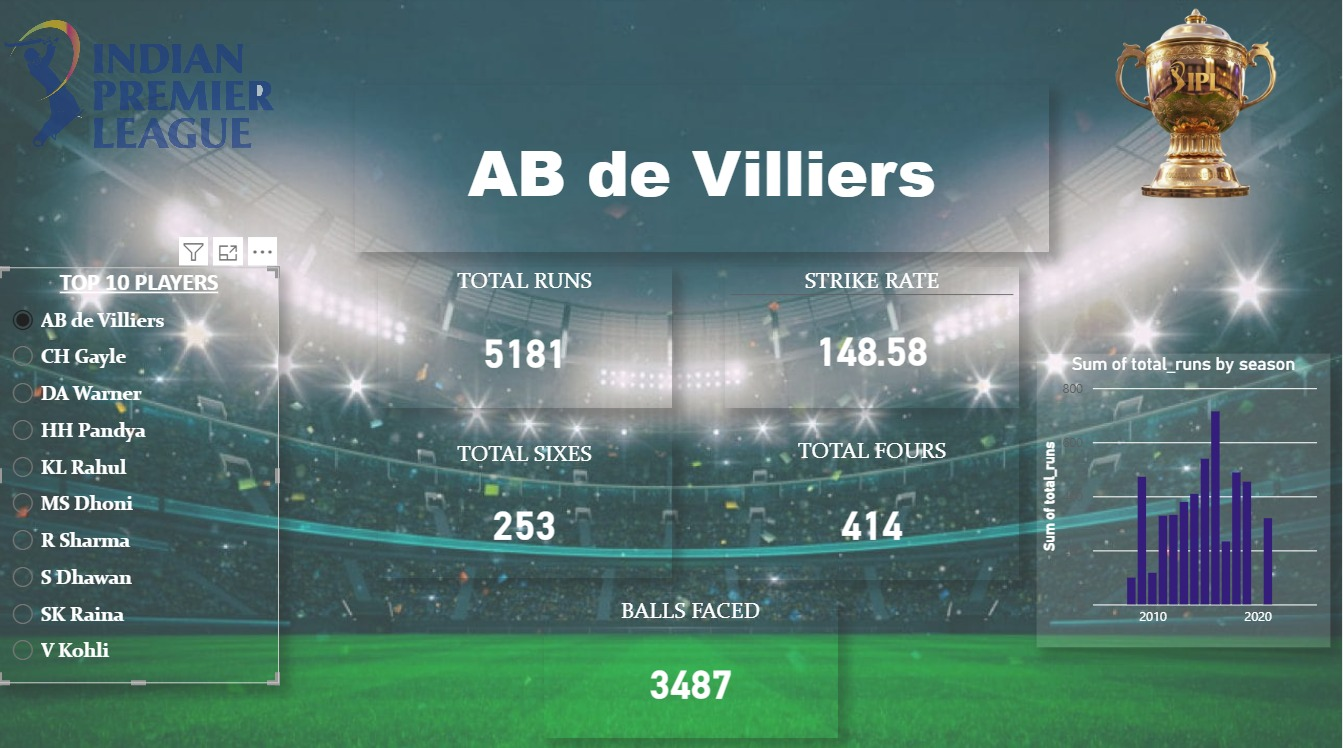

Layout of this report page (visuals, bound fields, positions):
{"tool":"powerbi","page":{"name":"Page 1","canvas":[1280,720],"ordinal":0},"visuals":[{"type":"slicer","title":"TOP 10 PLAYERS","fields":{"Values":["ball_by_ball_data.batter"]},"box":[0,258.3,266.7,396.4],"z":0},{"type":"card","title":"TOTAL RUNS","fields":{"Values":["Sum(ball_by_ball_data.batter_runs)"]},"box":[360.7,258.3,279.8,133.3],"z":1000},{"type":"card","title":"STRIKE RATE","fields":{"Values":["ball_by_ball_data.Strike_Rate"]},"box":[691.7,258.3,279.8,133.3],"z":2000},{"type":"card","title":"TOTAL FOURS","fields":{"Values":["ball_by_ball_data.Total Fours"]},"box":[691.7,420.2,279.8,135.7],"z":3000},{"type":"card","title":"TOTAL SIXES","fields":{"Values":["ball_by_ball_data.Total Sixes"]},"box":[360.7,422.6,279.8,131],"z":4000},{"type":"card","title":"BALLS FACED","fields":{"Values":["ball_by_ball_data.Balls Faced"]},"box":[519.1,572.6,279.8,134.5],"z":5000},{"type":"clusteredColumnChart","fields":{"Category":["ipl_matches_data.season"],"Y":["Sum(ball_by_ball_data.total_runs)"]},"box":[988.1,340.5,279.8,279.8],"z":6000},{"type":"card","fields":{"Values":["PLAYER (PlayerImages).Selected Player"]},"box":[339.3,84.5,660.7,159.5],"z":7000},{"type":"image","box":[0,0,266.7,167.9],"z":8000},{"type":"image","box":[1000,11.9,279.8,181],"z":9000}]}

Visuals, with their boxes in screenshot pixels (x1, y1, x2, y2), scaled from the page's 1280x720 canvas onto the 1343x748 screenshot:
"TOP 10 PLAYERS" slicer: bbox=[0, 268, 280, 680]
"TOTAL RUNS" card: bbox=[378, 268, 672, 407]
"STRIKE RATE" card: bbox=[726, 268, 1019, 407]
"TOTAL FOURS" card: bbox=[726, 437, 1019, 578]
"TOTAL SIXES" card: bbox=[378, 439, 672, 575]
"BALLS FACED" card: bbox=[545, 595, 838, 735]
clusteredColumnChart - ipl_matches_data.season x Sum(ball_by_ball_data.total_runs): bbox=[1037, 354, 1330, 644]
card - PLAYER (PlayerImages).Selected Player: bbox=[356, 88, 1049, 253]
image: bbox=[0, 0, 280, 174]
image: bbox=[1049, 12, 1342, 200]
